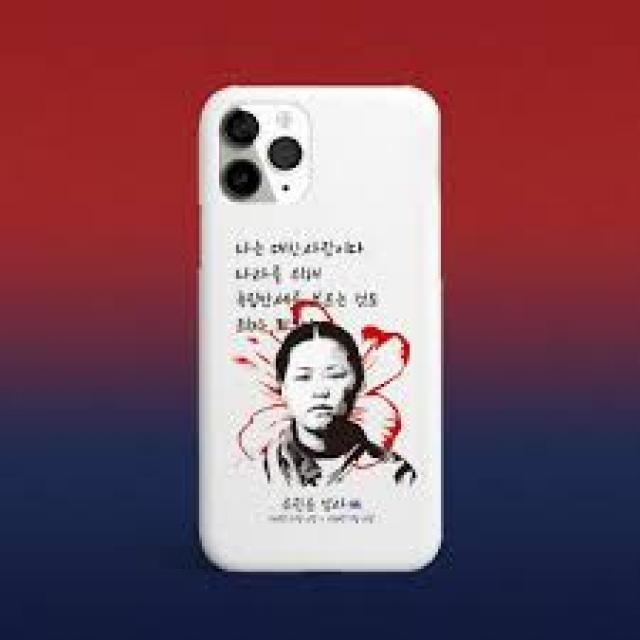phone: (188, 73, 446, 580)
